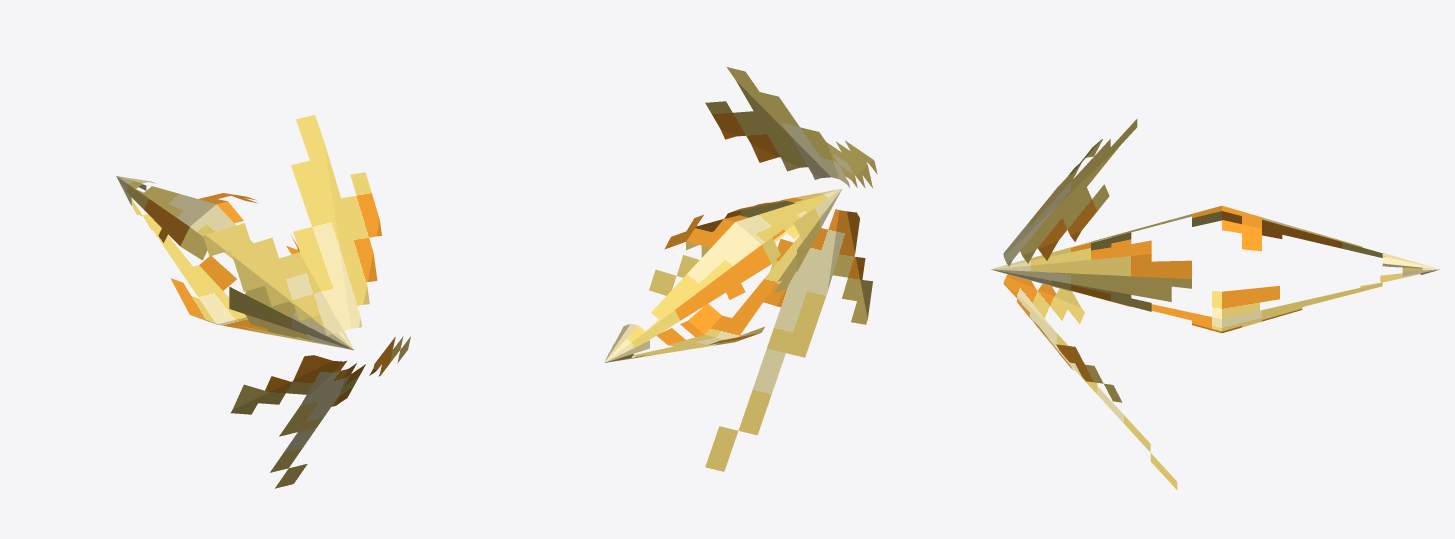
Rendered from MuzzleFlash.gltf.
The picture shows the model from 3 angles, left to right: view 1: azimuth 30°, elevation 25°; view 2: azimuth 150°, elevation 25°; view 3: azimuth 270°, elevation 25°; orthographic projection. The views are drawn at different scales.
Parts seen in each view (by area): view 1: cone (×2); view 2: cone (×2); view 3: cone (×2).
Boxes of the visible parts, <box> form: cone (×2): <box>116,115,410,488</box>; cone (×2): <box>604,67,877,471</box>; cone (×2): <box>990,119,1440,489</box>.
Size of the model in its own units: 0.75 by 0.75 by 0.674.
1 material, 1 textured.
